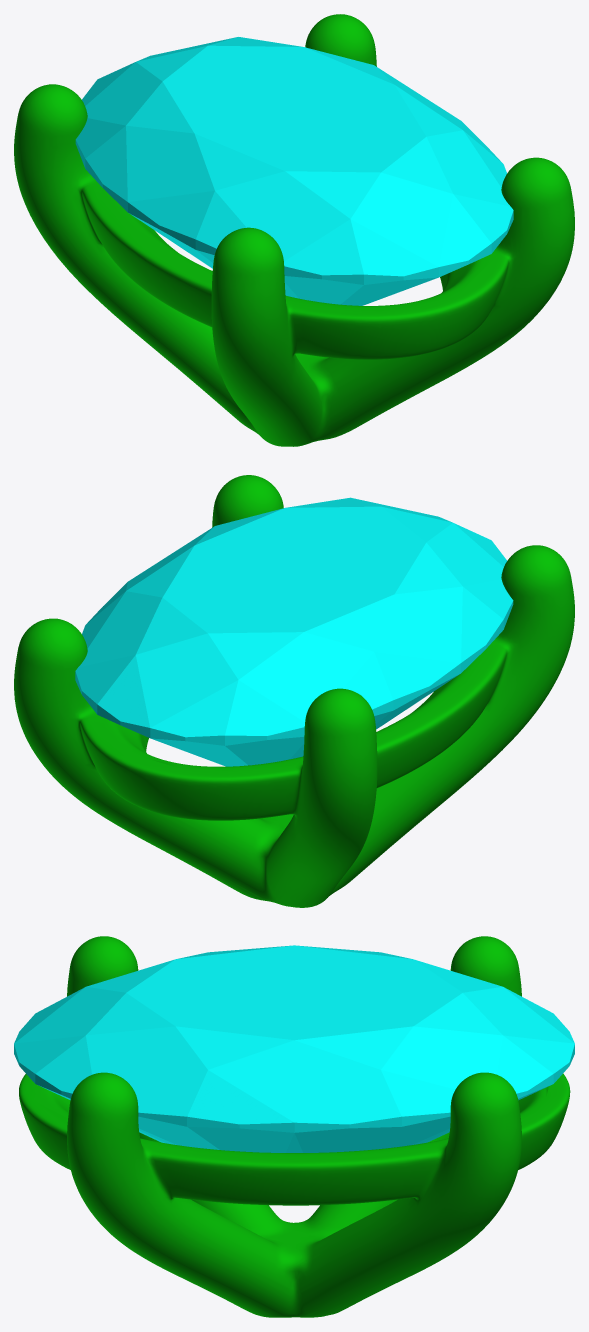
The picture shows the model from 3 angles, top to bottom: view 1: azimuth 30°, elevation 25°; view 2: azimuth 150°, elevation 25°; view 3: azimuth 270°, elevation 25°; orthographic projection. The views are drawn at different scales.
Visible parts, largest first — view 1: Diamond_Oval, Metal01; view 2: Diamond_Oval, Metal01; view 3: Diamond_Oval, Metal01.
Boxes of the visible parts, <box> form: Diamond_Oval: <box>75,37,513,305</box>; Metal01: <box>14,14,574,446</box>; Diamond_Oval: <box>75,497,513,766</box>; Metal01: <box>14,475,574,907</box>; Diamond_Oval: <box>14,945,574,1152</box>; Metal01: <box>19,936,570,1317</box>.
Bounding box in the file's own units: 7.23 × 6.22 × 10.23.
